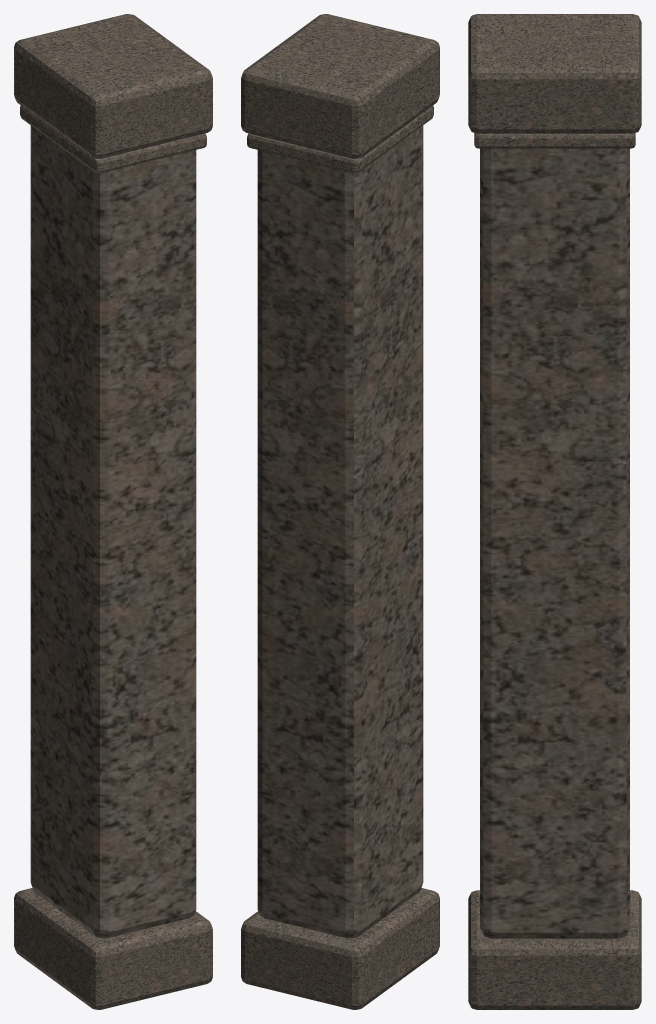
The model's file is door_jamb.glb.
3 views of the same model, side by side, from view 1: azimuth 30°, elevation 25°; view 2: azimuth 150°, elevation 25°; view 3: azimuth 270°, elevation 25° (orthographic). The views are drawn at different scales.
Visible parts, largest first — view 1: door_jamb; view 2: door_jamb; view 3: door_jamb.
Boxes of the visible parts, bbox=[...] form: door_jamb: bbox=[14, 14, 212, 1009]; door_jamb: bbox=[241, 14, 439, 1009]; door_jamb: bbox=[468, 14, 641, 1009].
Size of the model in its own units: 0.5 by 3.6 by 0.6.
1 material, 1 textured.
